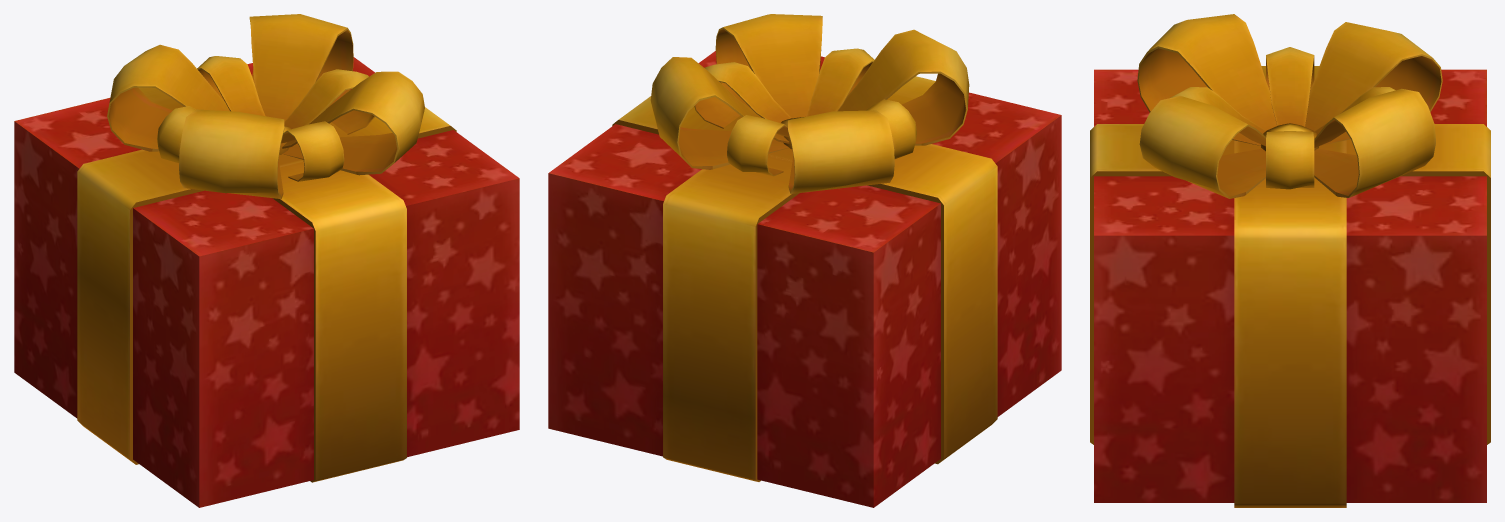
Rendered from present_1.glb.
3 renders of one model, left to right at view 1: azimuth 30°, elevation 25°; view 2: azimuth 150°, elevation 25°; view 3: azimuth 270°, elevation 25°, orthographic. The views are drawn at different scales.
Parts seen in each view (by area): view 1: present_1; view 2: present_1; view 3: present_1.
Boxes of the visible parts, box(x1,y1,x2,y2) form: present_1: box(14, 14, 519, 507); present_1: box(548, 14, 1061, 507); present_1: box(1090, 14, 1490, 507).
Bounding box in the file's own units: 0.4077 × 0.4075 × 0.4077.
Materials: 1 (1 with a texture image).
